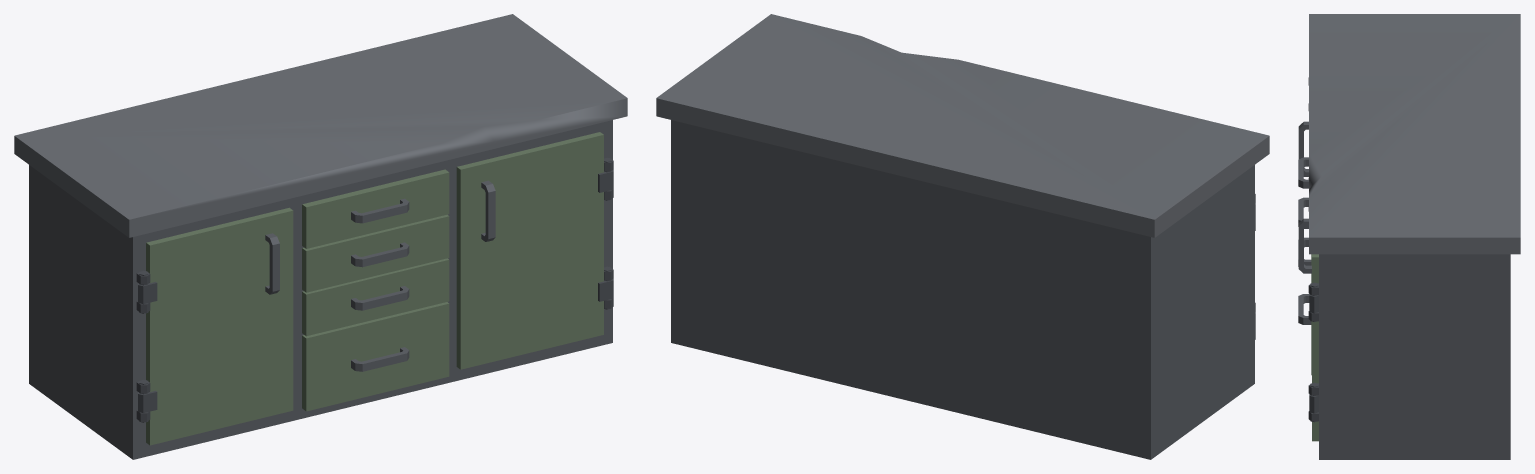
File: SM_Prop_WorkBench_02_Preset.fbx
3 views of the same model, side by side, from view 1: azimuth 30°, elevation 25°; view 2: azimuth 150°, elevation 25°; view 3: azimuth 270°, elevation 25° (orthographic). The views are drawn at different scales.
Visible parts, largest first — view 1: SM_Prop_WorkBench_02_Preset; view 2: SM_Prop_WorkBench_02_Preset; view 3: SM_Prop_WorkBench_02_Preset.
Boxes of the visible parts, left/top/right/bottom form: SM_Prop_WorkBench_02_Preset: left=14, top=14, right=627, bottom=459; SM_Prop_WorkBench_02_Preset: left=656, top=14, right=1269, bottom=459; SM_Prop_WorkBench_02_Preset: left=1298, top=14, right=1520, bottom=459.
Bounding box in the file's own units: 215 × 101 × 90.08.
